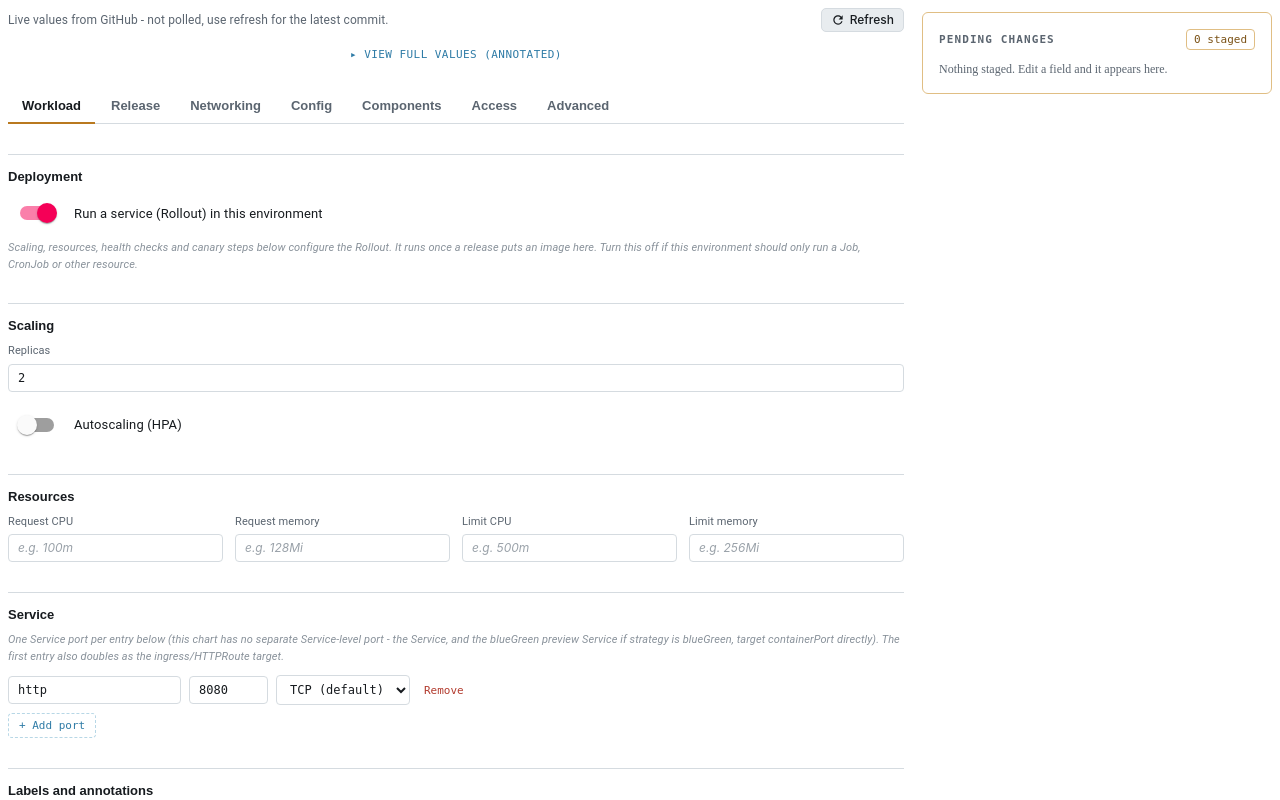
values form pending changes › shows the file the pull request is for, and the pull request once opened
This screenshot has width=1280, height=800.
Replace the text in the number field labelled "Replicas" with "5" at coordinates (456, 378), box [8,364,904,392]
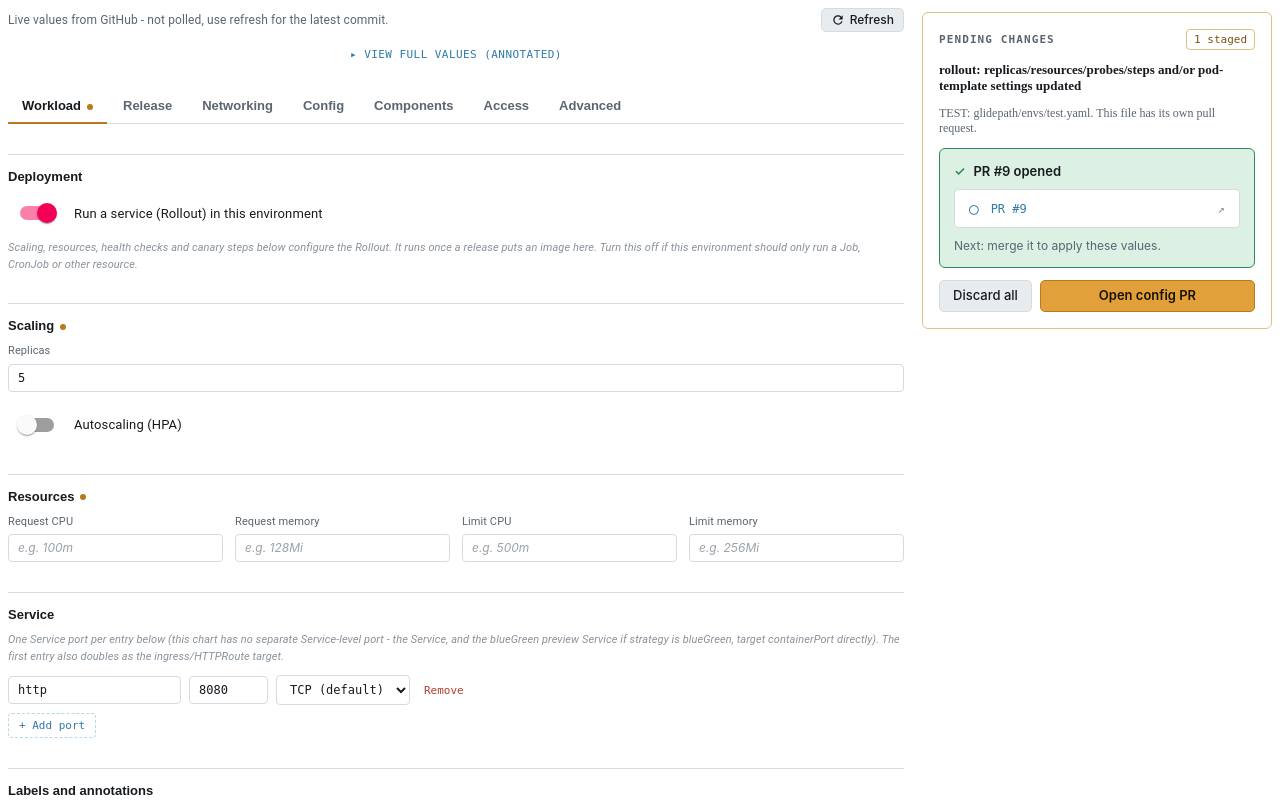
Expected: the text "glidepath/envs/test.yaml. This file has its own pull request" is shown, [939,106,1255,136]
Expected: the message with test id "pr-receipt" shows "PR #9 opened", [939,148,1255,268]
